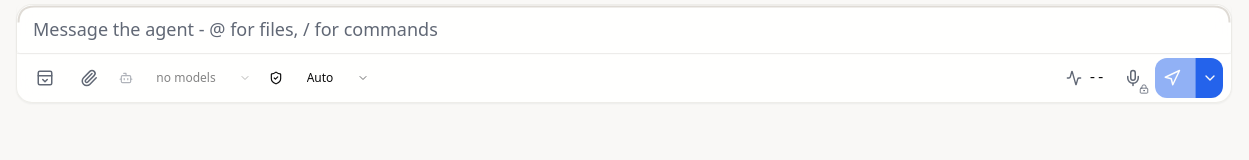
Composer › explains the HTTPS requirement at the microphone control on insecure origins
Click the button with test id "composer-voice-start" at (1133, 78), box x1=1113 y1=58 x2=1153 y2=98
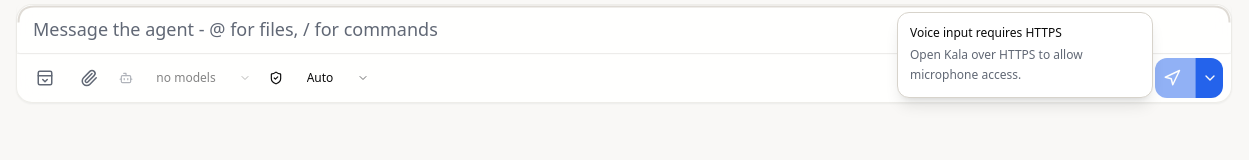
Result: the message with test id "composer-voice-https-help" shows "Voice input requires HTTPS" at x1=910 y1=24 x2=1062 y2=41
